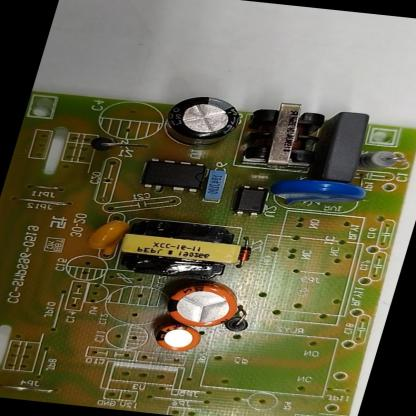Cap1: (162, 282, 242, 329)
Cap2: (152, 325, 202, 354)
Cap3: (163, 94, 242, 149)
MOSFET: (140, 157, 208, 193)
Mov: (274, 176, 369, 210)
Resistor: (361, 149, 404, 172)
Transformer: (117, 215, 247, 281), (243, 100, 327, 166)
